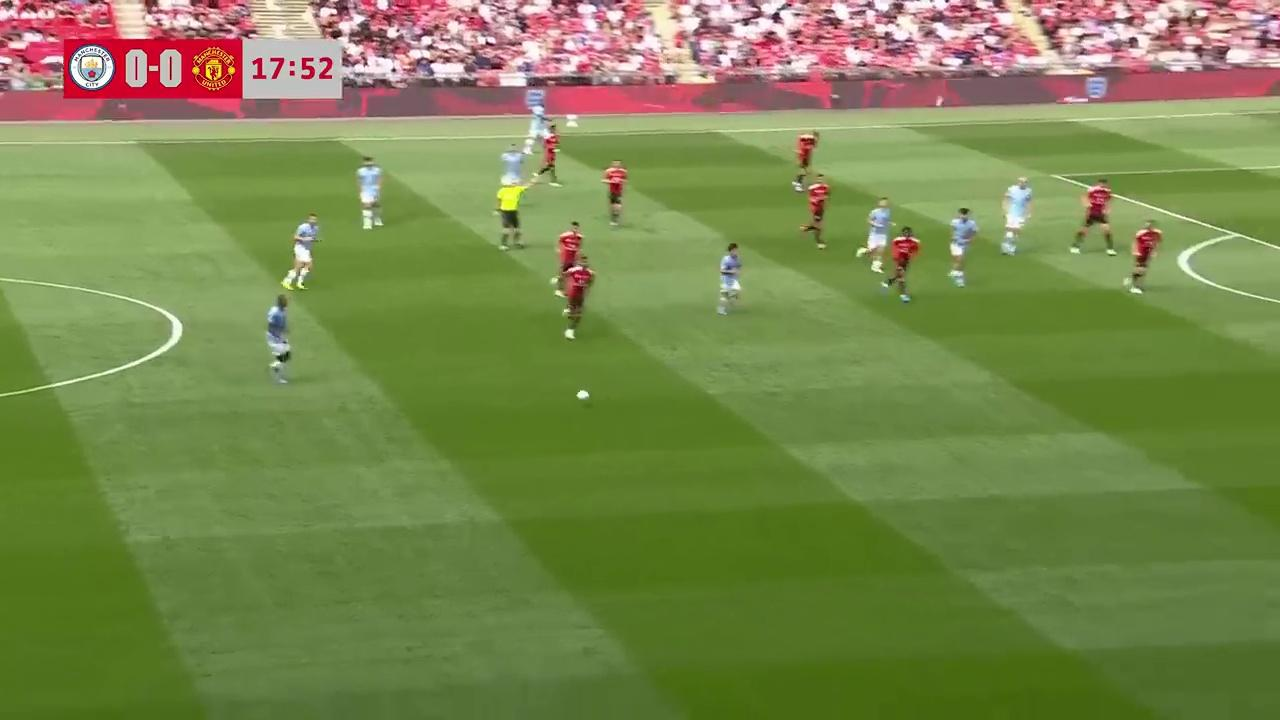ball: (575, 386, 592, 403)
player: (1068, 177, 1113, 255), (559, 256, 594, 339), (883, 224, 920, 302), (1123, 219, 1161, 294), (855, 197, 892, 272), (287, 212, 321, 289), (1000, 176, 1032, 255), (265, 294, 292, 384), (948, 207, 978, 287), (799, 173, 830, 249), (355, 156, 384, 229), (555, 221, 582, 293), (717, 242, 743, 315), (602, 160, 627, 227), (793, 130, 818, 191), (536, 127, 561, 186), (524, 101, 551, 154), (498, 144, 529, 189)
referee: (494, 179, 525, 250)
